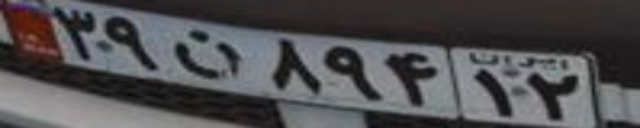1: (467, 68, 511, 117)
2: (524, 72, 583, 120)
3: (48, 6, 95, 61)
4: (381, 51, 444, 106)
8: (261, 37, 318, 92)
9: (322, 44, 382, 99), (100, 16, 161, 70)
non: (169, 26, 246, 80)
